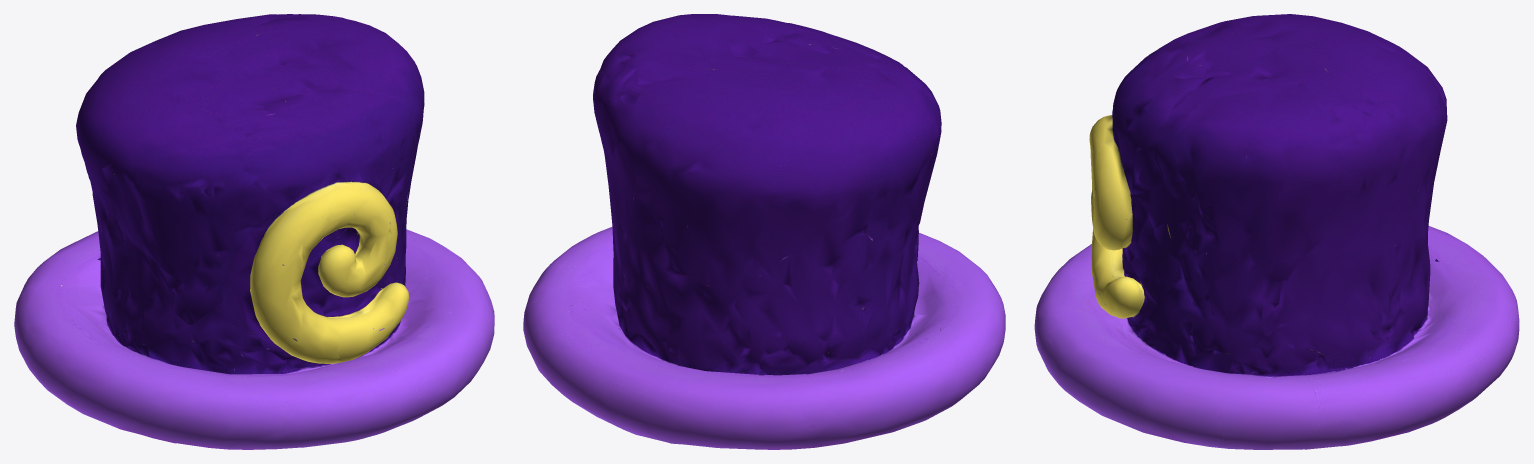
The model's file is dream-hat.glb.
The picture shows the model from 3 angles, left to right: view 1: azimuth 30°, elevation 25°; view 2: azimuth 150°, elevation 25°; view 3: azimuth 270°, elevation 25°; orthographic projection.
Bounding box in the file's own units: 1.9 × 1.33 × 1.9.
Materials: 1 (1 with a texture image).
